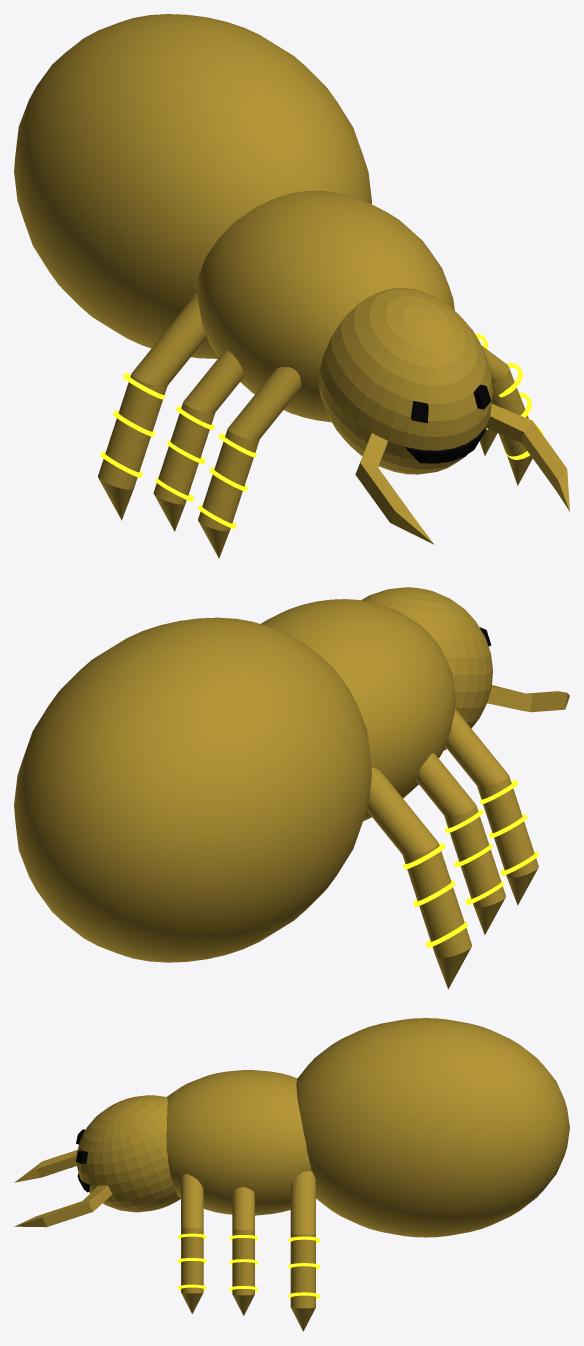
Rendered from Model_Defender_Basic_MiscUpgrade.fbx.
3 views of the same model, one above another, from view 1: azimuth 30°, elevation 25°; view 2: azimuth 150°, elevation 25°; view 3: azimuth 270°, elevation 25° (orthographic). The views are drawn at different scales.
Visible parts, largest first — view 1: Sphere, Sphere.001, Sphere.002, Cylinder, Cylinder.003; view 2: Sphere, Sphere.001, Cylinder, Sphere.002, Cylinder.003; view 3: Sphere, Sphere.001, Sphere.002, Cylinder, Cylinder.003.
Boxes of the visible parts, x1,y1,x2,y2 form: Sphere: (14,14,371,358); Sphere.001: (196,190,454,422); Sphere.002: (318,288,569,544); Cylinder: (98,294,532,558); Cylinder.003: (100,333,543,528); Sphere: (14,617,371,962); Sphere.001: (261,599,455,820); Cylinder: (366,709,538,989); Sphere.002: (361,587,569,750); Cylinder.003: (403,780,538,947); Sphere: (296,1018,569,1237); Sphere.001: (166,1070,311,1215); Sphere.002: (14,1095,180,1227); Cylinder: (181,1171,315,1331); Cylinder.003: (178,1233,319,1298).
Size of the model in its own units: 258 by 252 by 506.
